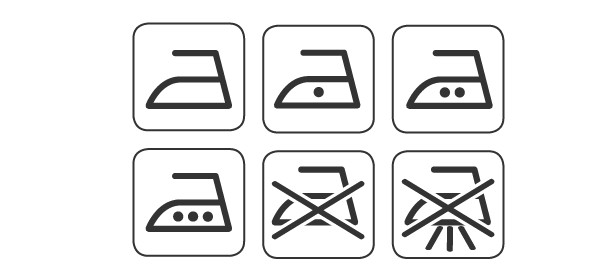do_not_iron: (396, 165, 497, 254), (269, 164, 369, 242)
